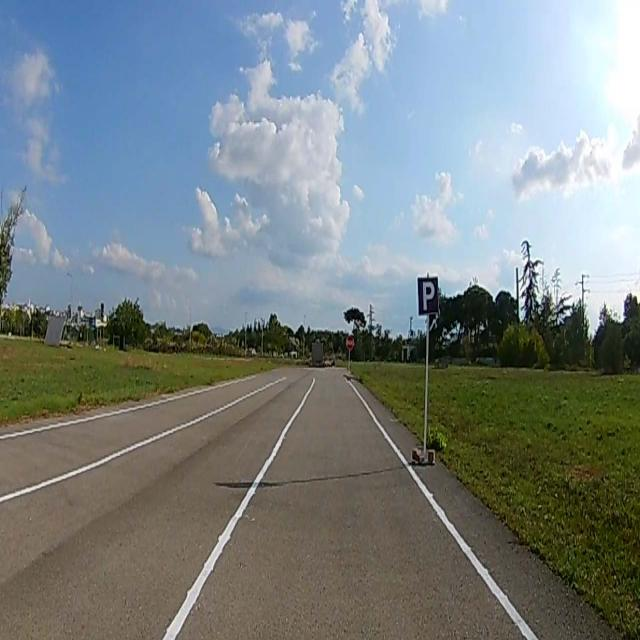park: (417, 276, 438, 314)
